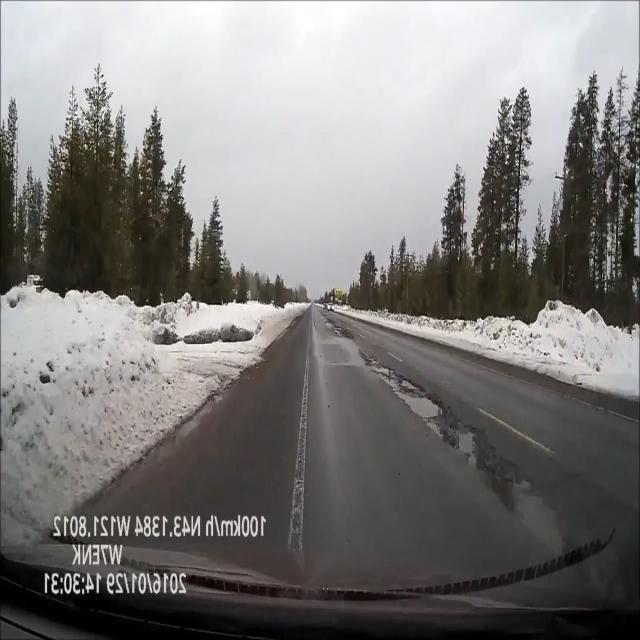pothole: (445, 427, 533, 494), (370, 359, 449, 424), (324, 320, 360, 337)
